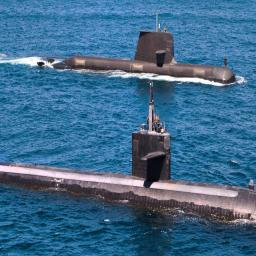submarine: (3, 77, 256, 237), (34, 4, 243, 94)
